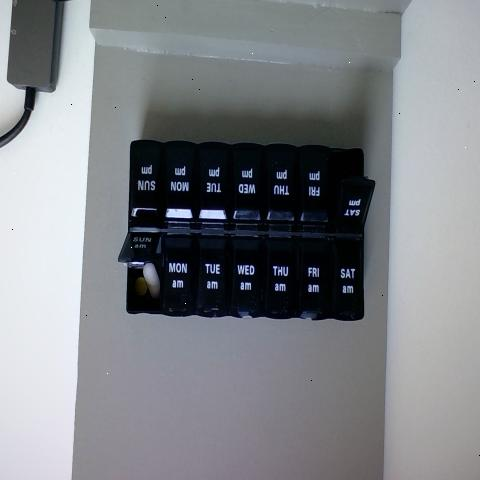FRI-am: (296, 234, 330, 314)
FRI-pm: (300, 150, 328, 222)
MON-am: (161, 233, 194, 311)
MON-pm: (161, 139, 194, 223)
Open: (118, 233, 161, 313), (331, 150, 377, 224)
Pill: (140, 263, 158, 296)
PillBox: (110, 80, 385, 360)
SAT-am: (330, 236, 362, 316)
SUN-pm: (132, 142, 160, 218)
THU-am: (262, 235, 296, 316)
THU-pm: (265, 146, 300, 230)
TUE-am: (194, 239, 226, 318)
TUE-pm: (200, 147, 228, 224)
WED-am: (231, 236, 260, 316)
WED-pm: (231, 146, 262, 226)
